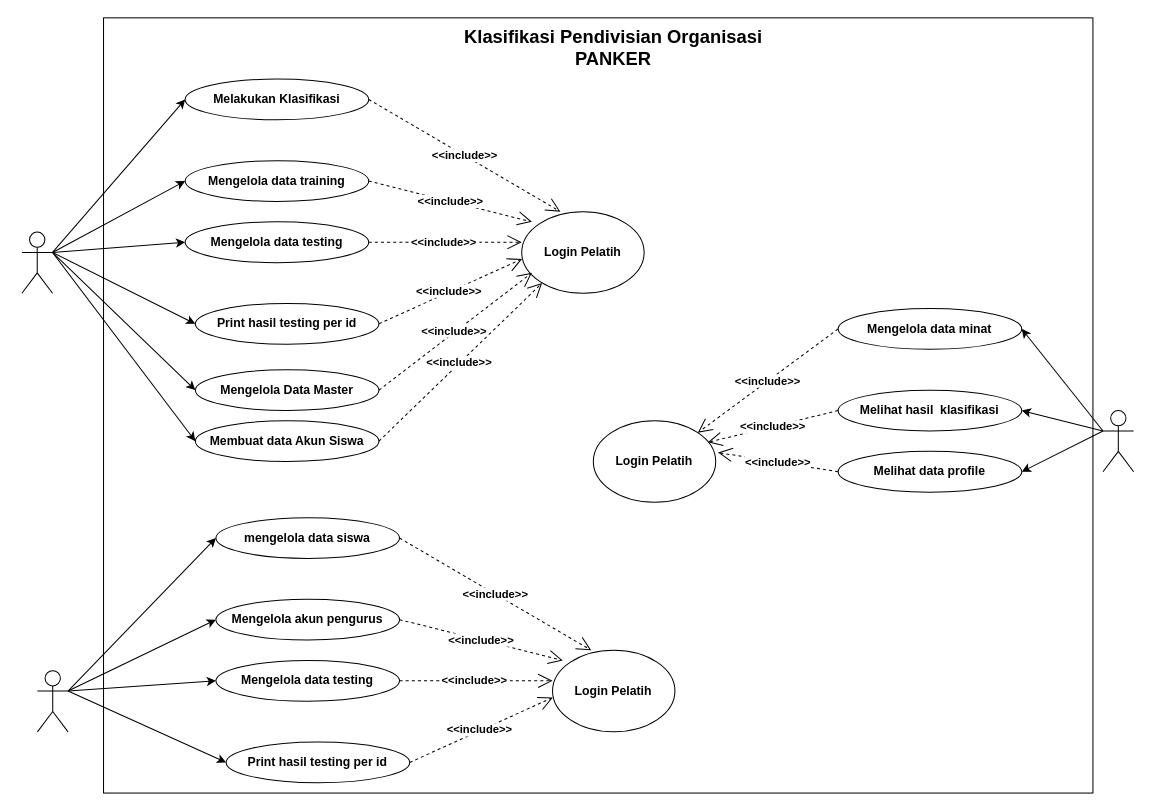
Some shapes in this 1154 by 811 pixel diagram are drawn without their labels. The shapes that lost their labels are listed below. From the top down, each one's centre as x and y in pixels, then its label:
At [37,262]: "Pelatih".
At [1118,441]: "Siswa".
At [52,701]: "Pengurus".
